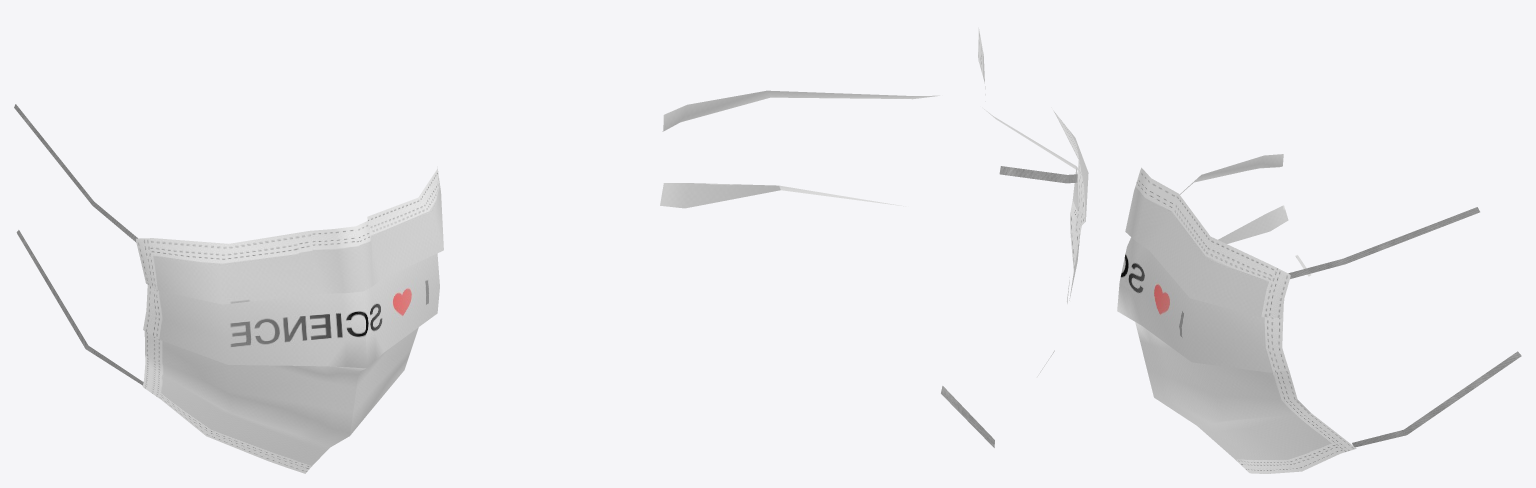
The model's file is Mask_r.glb.
3 renders of one model, left to right at view 1: azimuth 30°, elevation 25°; view 2: azimuth 150°, elevation 25°; view 3: azimuth 270°, elevation 25°, orthographic. The views are drawn at different scales.
Parts seen in each view (by area): view 1: Mask_lo; view 2: Mask_lo; view 3: Mask_lo.
Part boxes in pixels (x1,y1,x2,y2): Mask_lo: (14, 104, 443, 473); Mask_lo: (660, 27, 1088, 447); Mask_lo: (1117, 154, 1521, 473).
Bounding box in the file's own units: 0.1426 × 0.1249 × 0.1262.
1 material, 1 textured.
